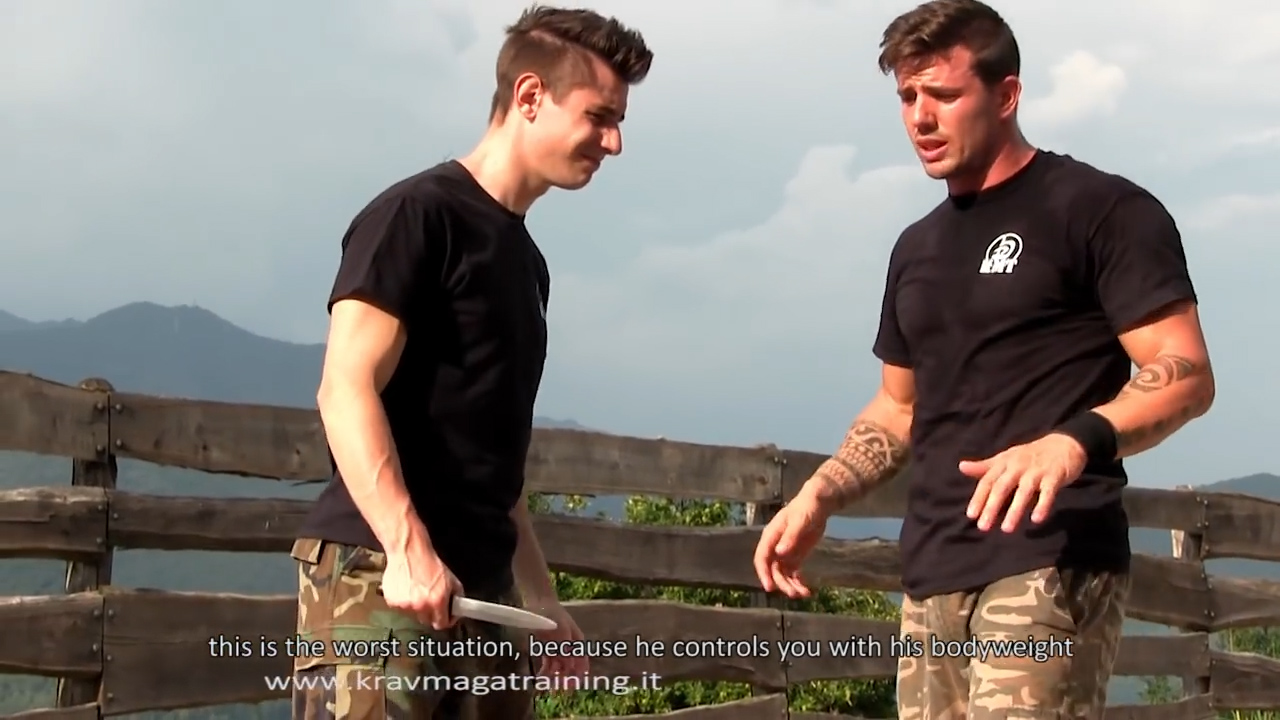knife: (368, 573, 562, 637)
